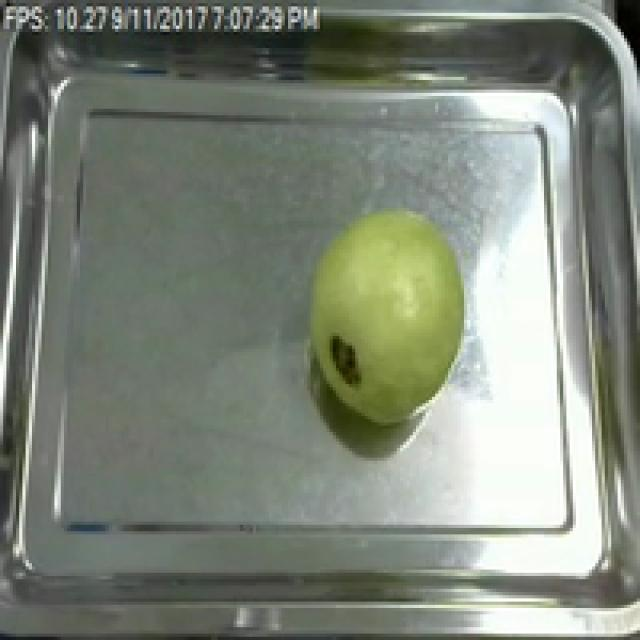Fruit: (298, 202, 477, 435)
